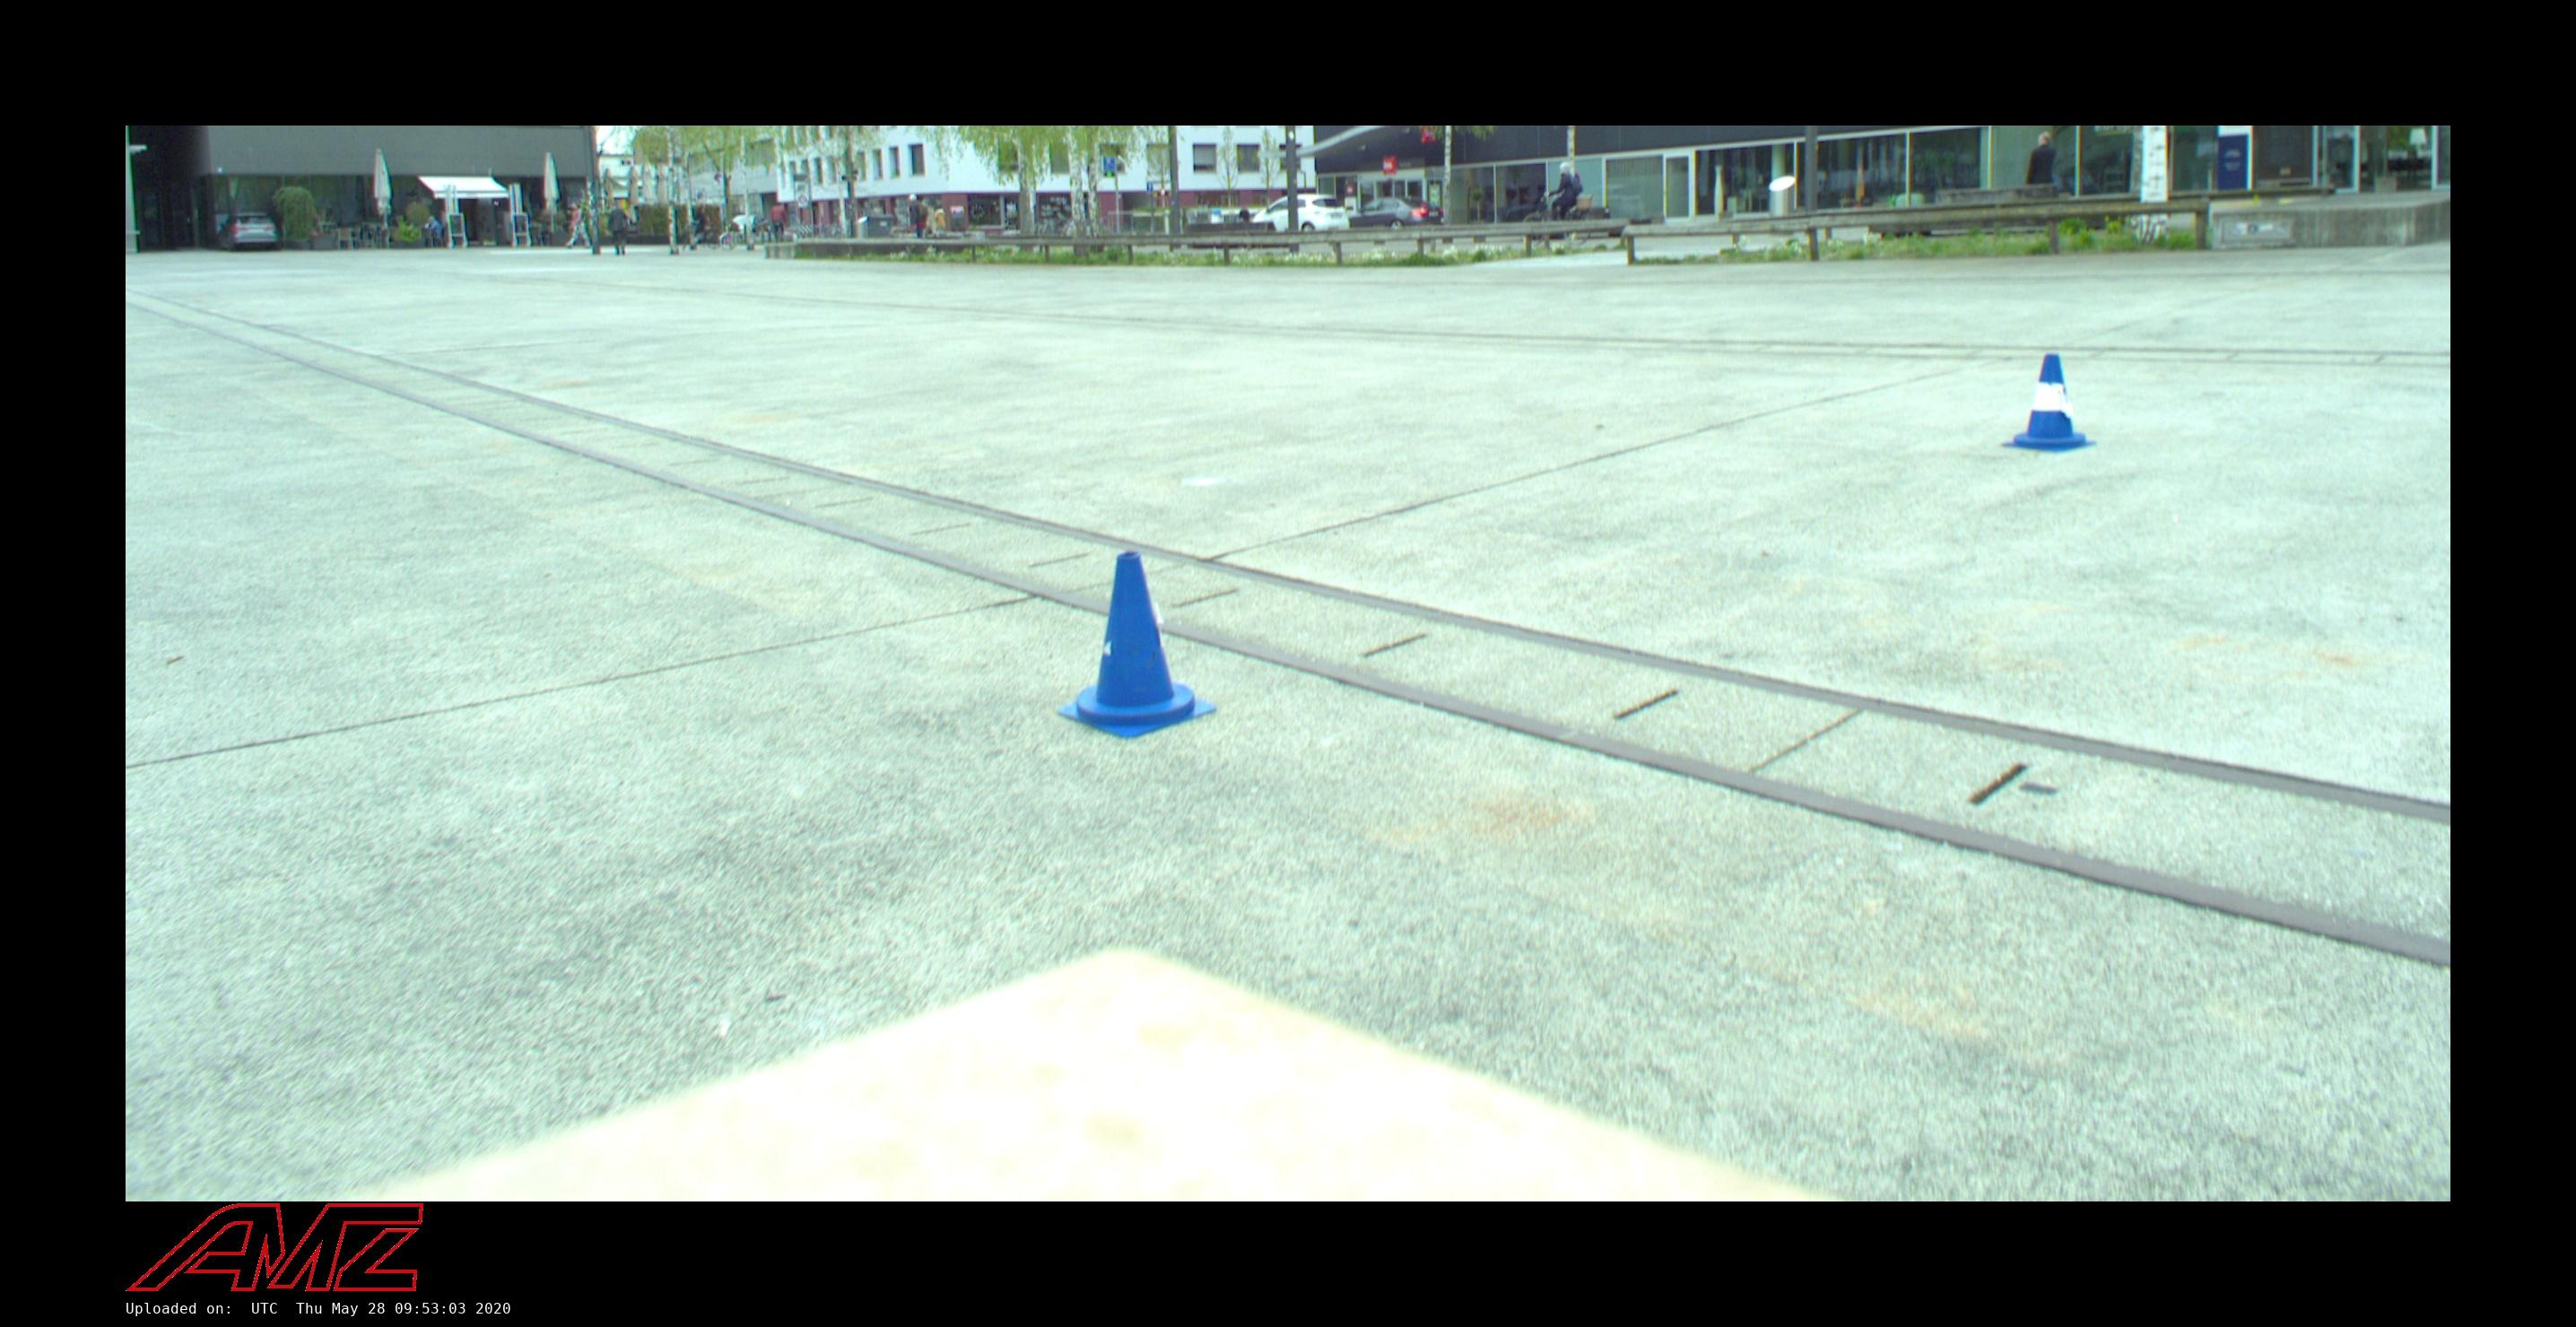blue_cone: (1060, 551, 1216, 735), (2002, 353, 2098, 453)
